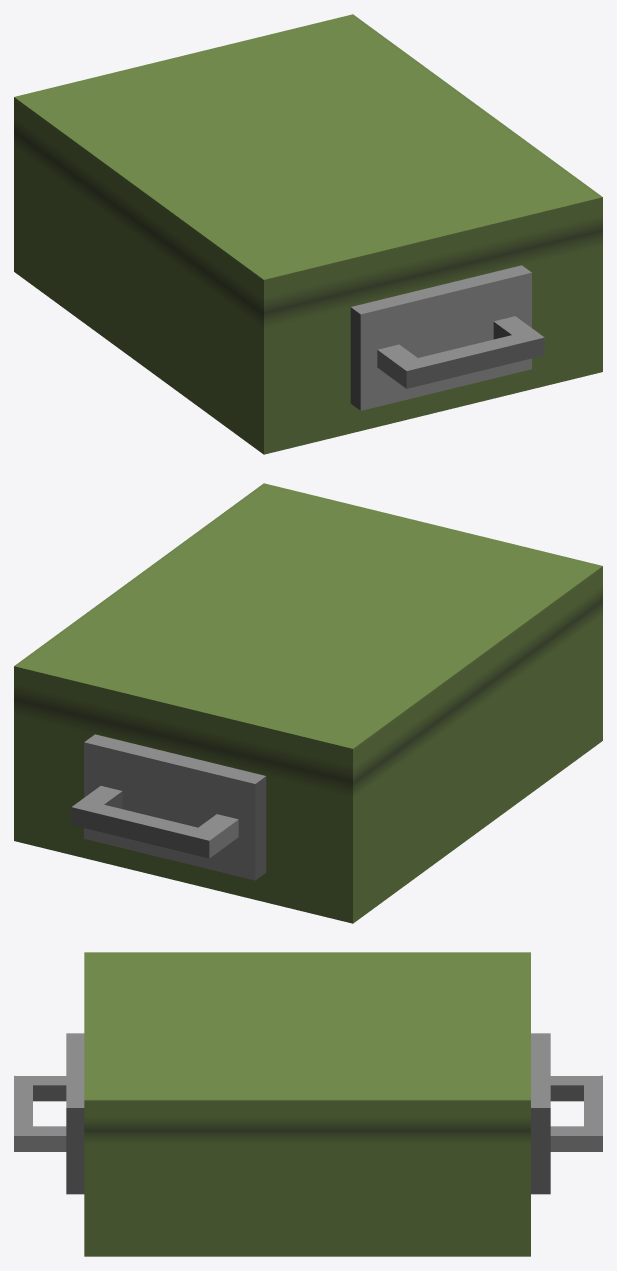
File: SM_Prop_Metal_Box_02.fbx
The picture shows the model from 3 angles, top to bottom: view 1: azimuth 30°, elevation 25°; view 2: azimuth 150°, elevation 25°; view 3: azimuth 270°, elevation 25°; orthographic projection. The views are drawn at different scales.
Parts seen in each view (by area): view 1: SM_Prop_Metal_Box_02; view 2: SM_Prop_Metal_Box_02; view 3: SM_Prop_Metal_Box_02.
Boxes of the visible parts, x1,y1,x2,y2 form: SM_Prop_Metal_Box_02: (14, 14, 602, 454); SM_Prop_Metal_Box_02: (14, 483, 602, 923); SM_Prop_Metal_Box_02: (14, 952, 602, 1256).
Size of the model in its own units: 0.969 by 0.4774 by 1.63.
